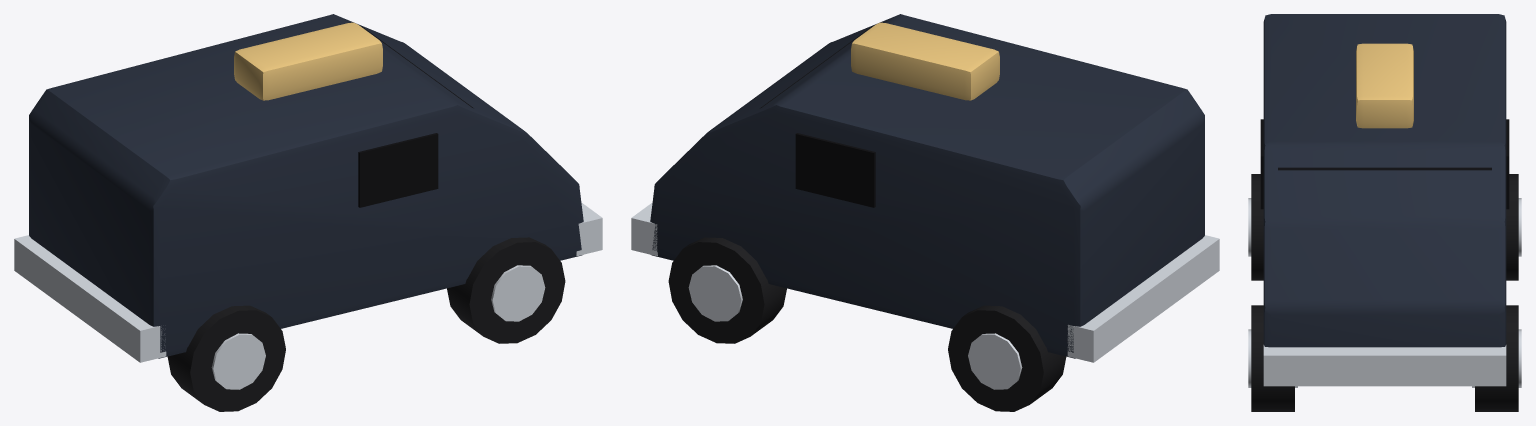
File: van.glb
3 renders of one model, left to right at view 1: azimuth 30°, elevation 25°; view 2: azimuth 150°, elevation 25°; view 3: azimuth 270°, elevation 25°, orthographic. The views are drawn at different scales.
Visible parts, largest first — view 1: Body, Wheels, LampBar; view 2: Body, Wheels, LampBar; view 3: Body, Wheels, LampBar.
Part boxes in pixels (<box>): Body: <box>14,14,602,362</box>; Wheels: <box>167,237,565,411</box>; LampBar: <box>234,22,382,100</box>; Body: <box>631,14,1219,362</box>; Wheels: <box>668,237,1066,411</box>; LampBar: <box>851,22,999,100</box>; Body: <box>1260,14,1509,386</box>; Wheels: <box>1248,174,1521,411</box>; LampBar: <box>1356,43,1413,128</box>.
Bounding box in the file's own units: 0.53 × 0.3075 × 0.281.
